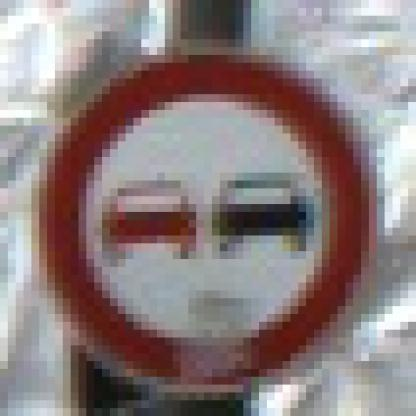No Overtaking: (40, 40, 378, 378)
